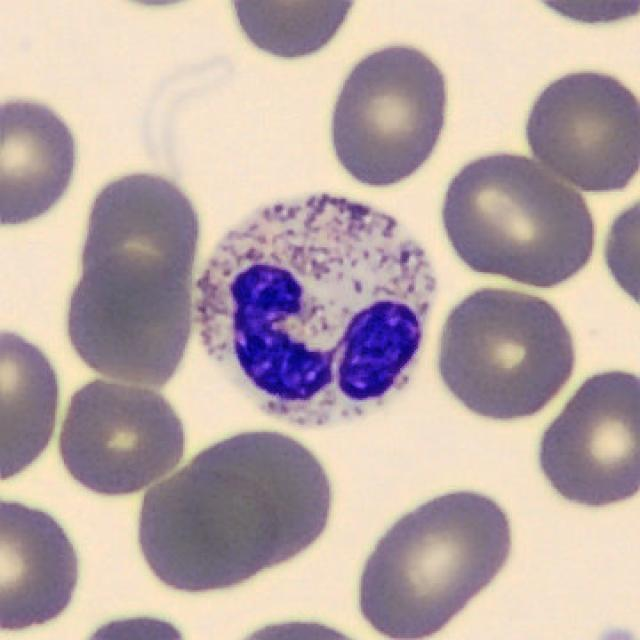Neutrofilo segmentado: (194, 194, 437, 425)
